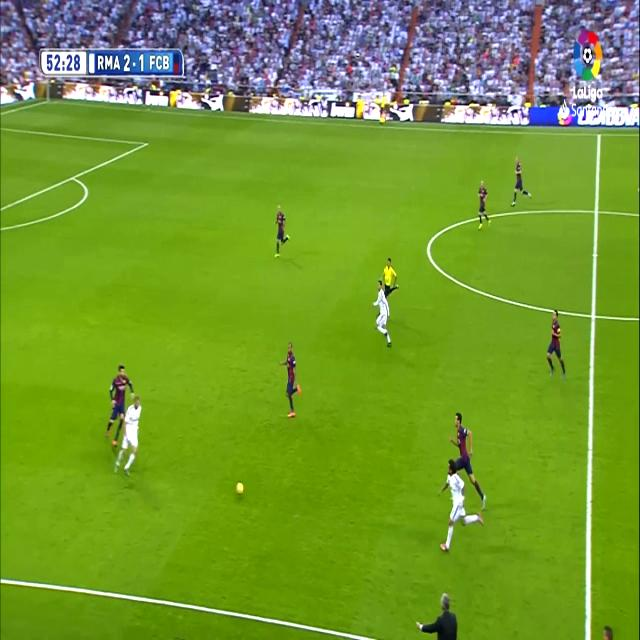bigarea_bottom_outter: (70, 169, 77, 185)
halfcircle_bottom: (586, 297, 600, 331)
halfcircle_top: (590, 194, 603, 226)
midline_top_intersection: (594, 130, 604, 144)
